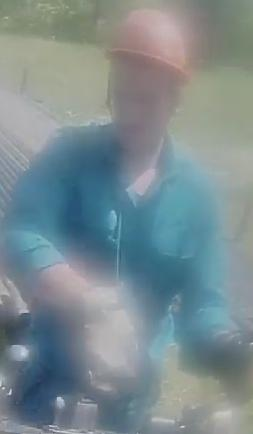gloves: (61, 283, 143, 404), (211, 323, 253, 403)
helmet: (105, 7, 194, 82)
vest: (34, 123, 222, 385)
